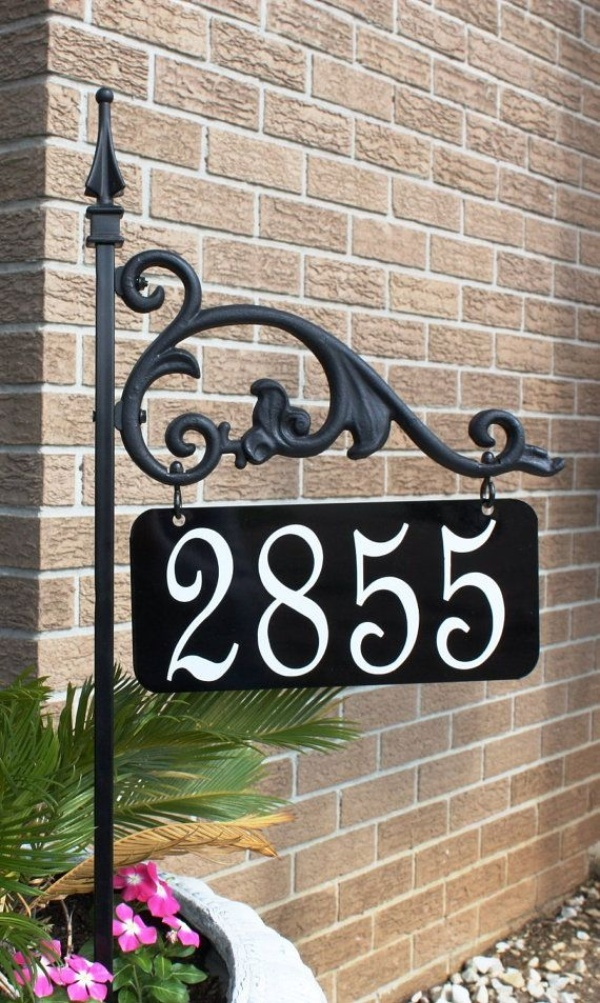text: (177, 517, 192, 687), (193, 517, 208, 687), (209, 517, 224, 687), (225, 517, 240, 687), (241, 517, 256, 687), (257, 517, 272, 687), (273, 517, 288, 687), (289, 517, 304, 687), (305, 517, 320, 687), (321, 517, 336, 687), (337, 517, 352, 687), (353, 517, 368, 687), (369, 517, 384, 687), (385, 517, 400, 687), (401, 517, 416, 687), (417, 517, 432, 687), (433, 517, 448, 687), (449, 517, 464, 687), (465, 517, 480, 687), (481, 517, 496, 687), (497, 517, 511, 687), (166, 517, 176, 687)
